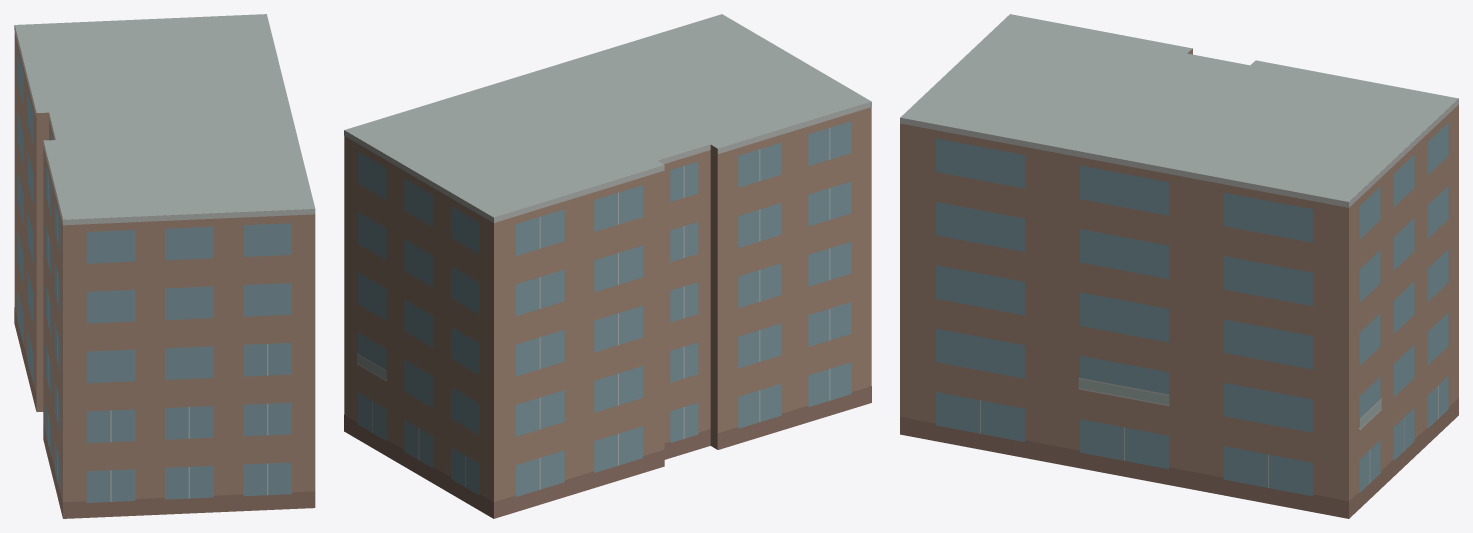
The model's file is survey-upis-32566021.glb.
3 views of the same model, side by side, from view 1: azimuth 30°, elevation 25°; view 2: azimuth 150°, elevation 25°; view 3: azimuth 270°, elevation 25° (orthographic). The views are drawn at different scales.
Parts seen in each view (by area): view 1: survey-upis-32566021.tmp; view 2: survey-upis-32566021.tmp; view 3: survey-upis-32566021.tmp.
Part boxes in pixels (x1,y1,x2,y2): survey-upis-32566021.tmp: (14, 14, 315, 518); survey-upis-32566021.tmp: (344, 14, 871, 518); survey-upis-32566021.tmp: (900, 14, 1458, 518).
Size of the model in its own units: 16.94 by 13.3 by 21.26.
